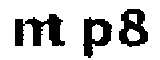8: (117, 6, 151, 53)
n: (10, 15, 43, 52)
p: (78, 17, 113, 60)
t: (46, 12, 70, 51)
